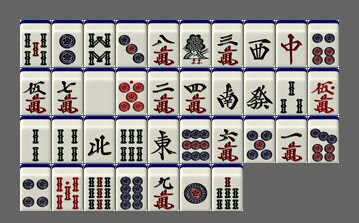0m: (308, 68, 339, 115)
0p: (116, 68, 147, 115)
0s: (52, 164, 83, 211)
1m: (276, 116, 307, 163)
1p: (180, 164, 211, 211)
1s: (180, 20, 211, 67)
1z: (148, 116, 179, 163)
2m: (148, 68, 179, 115)
2p: (52, 20, 83, 67)
2s: (20, 116, 51, 163)
2z: (212, 68, 243, 115)
3m: (212, 20, 243, 67)
3p: (116, 20, 147, 67)
3s: (276, 68, 307, 115)
3z: (244, 20, 275, 67)
4m: (180, 68, 211, 115)
4p: (20, 164, 51, 211)
4s: (52, 116, 83, 163)
4z: (84, 116, 115, 163)
5m: (20, 68, 51, 115)
5p: (244, 116, 275, 163)
5s: (20, 20, 51, 67)
5z: (84, 68, 115, 115)
6m: (212, 116, 243, 163)
6p: (308, 20, 339, 67)
6s: (116, 116, 147, 163)
6z: (244, 68, 275, 115)
7m: (52, 68, 83, 115)
7p: (308, 116, 339, 163)
7s: (212, 164, 243, 211)
7z: (276, 20, 307, 67)
8m: (148, 20, 179, 67)
8p: (116, 164, 147, 211)
8s: (84, 20, 115, 67)
9m: (148, 164, 179, 211)
9p: (180, 116, 211, 163)
9s: (84, 164, 115, 211)
